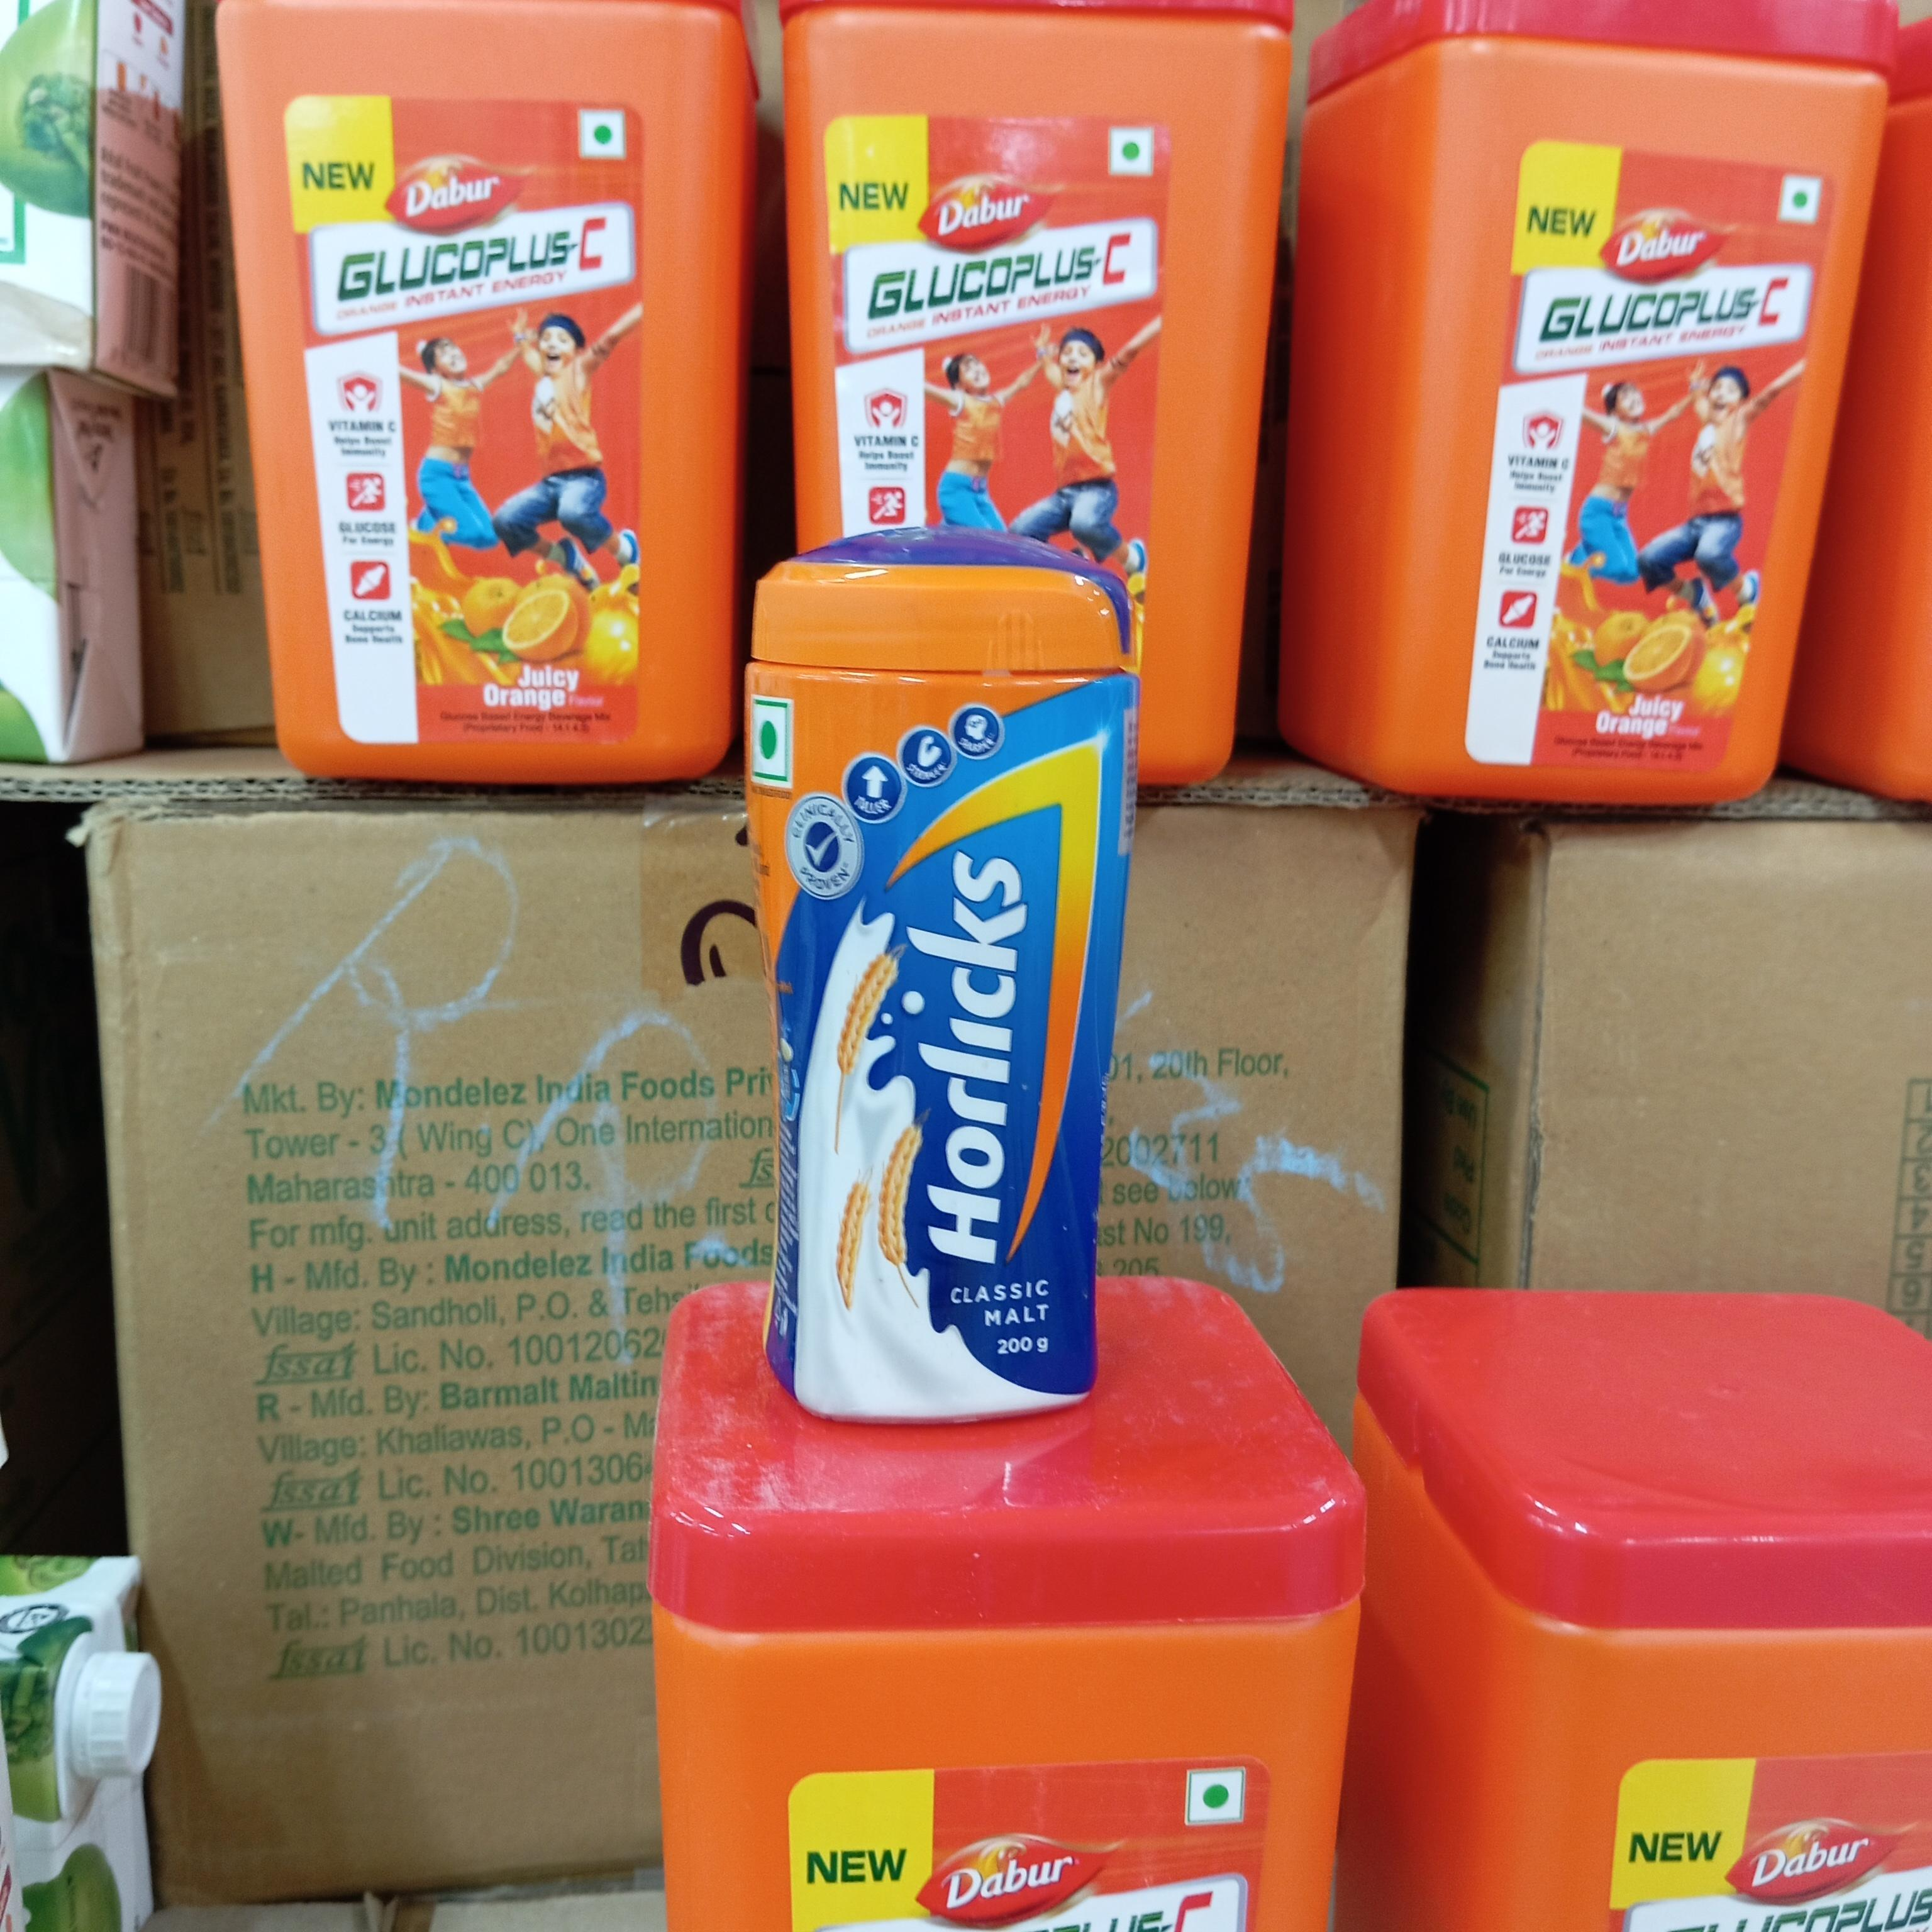HORLICK_CLASSIC_MALT_200_G_JAR: (757, 540, 1108, 1414)
